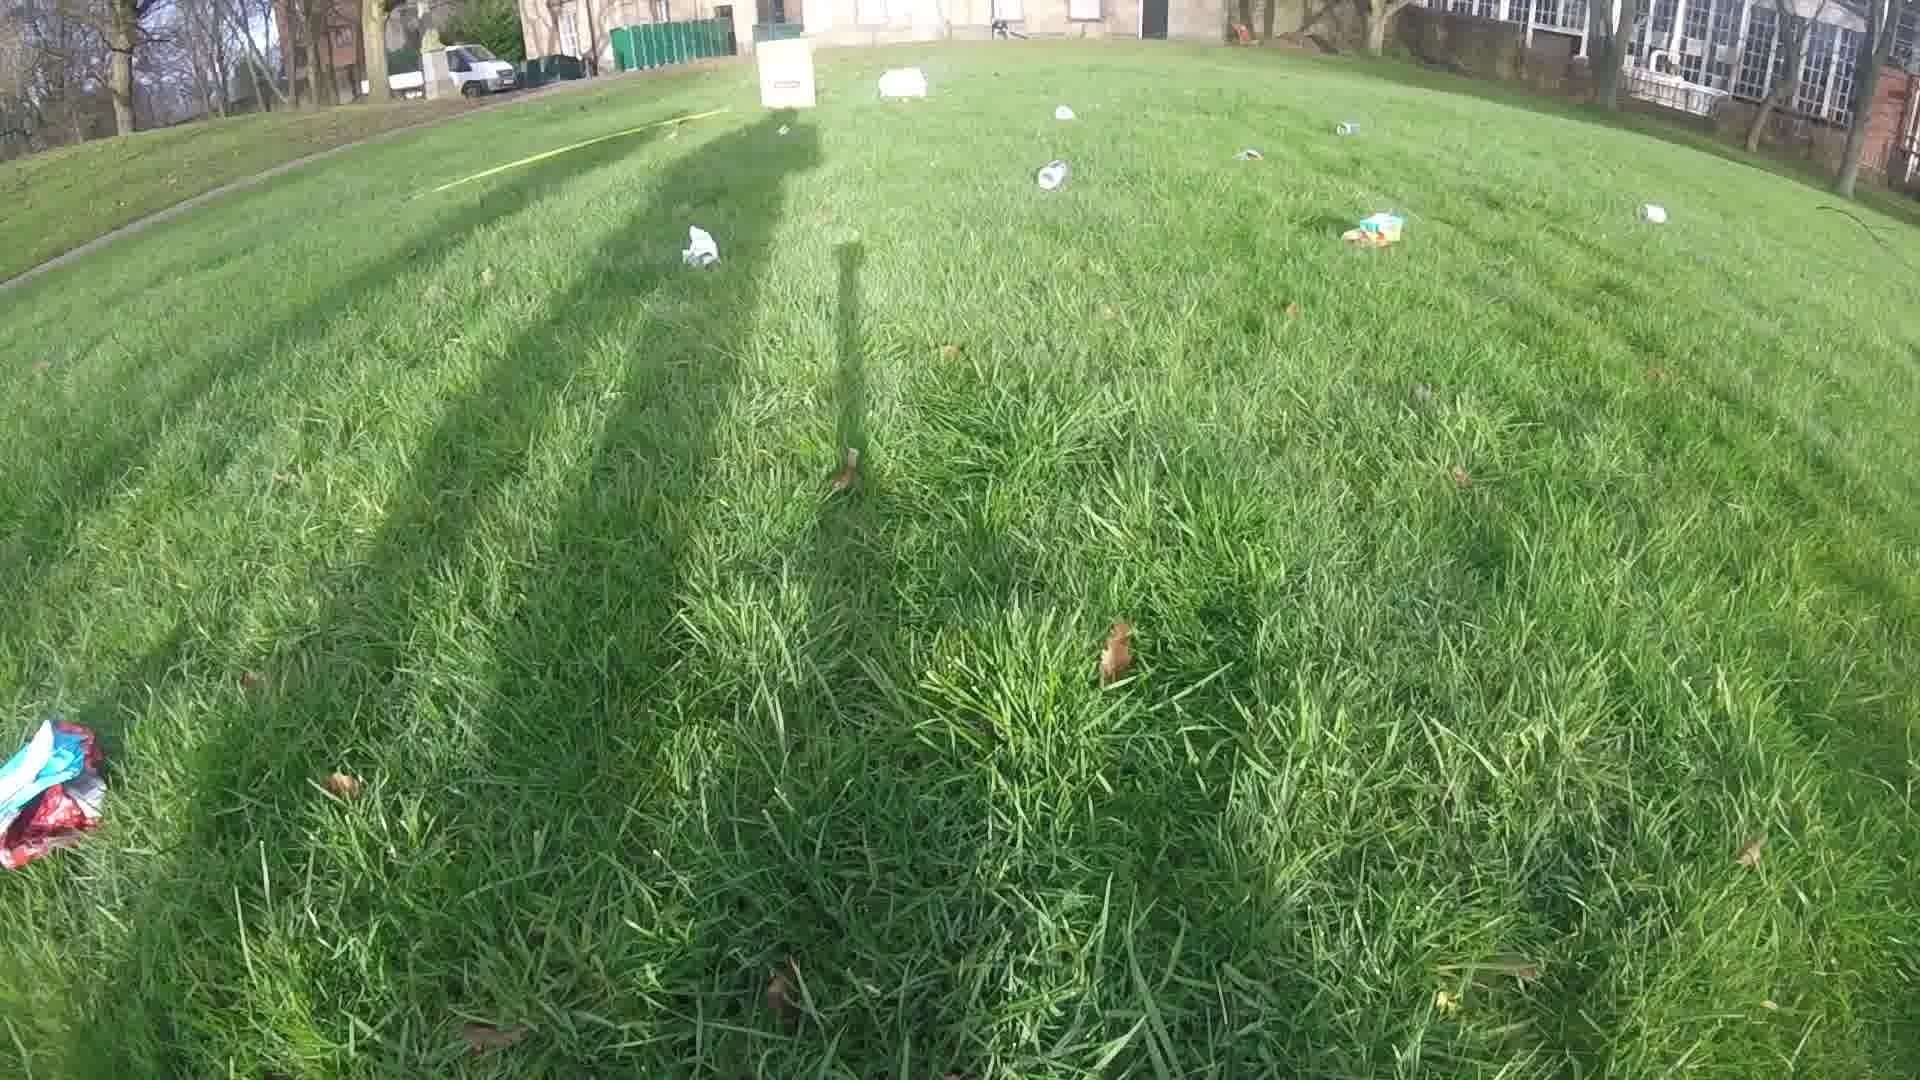litter: (756, 40, 822, 107), (1342, 218, 1406, 251), (680, 225, 719, 266), (877, 69, 926, 99), (1038, 164, 1069, 189), (1640, 204, 1668, 224), (1048, 107, 1075, 123), (1335, 123, 1357, 138), (1232, 152, 1269, 160), (775, 123, 791, 135)
